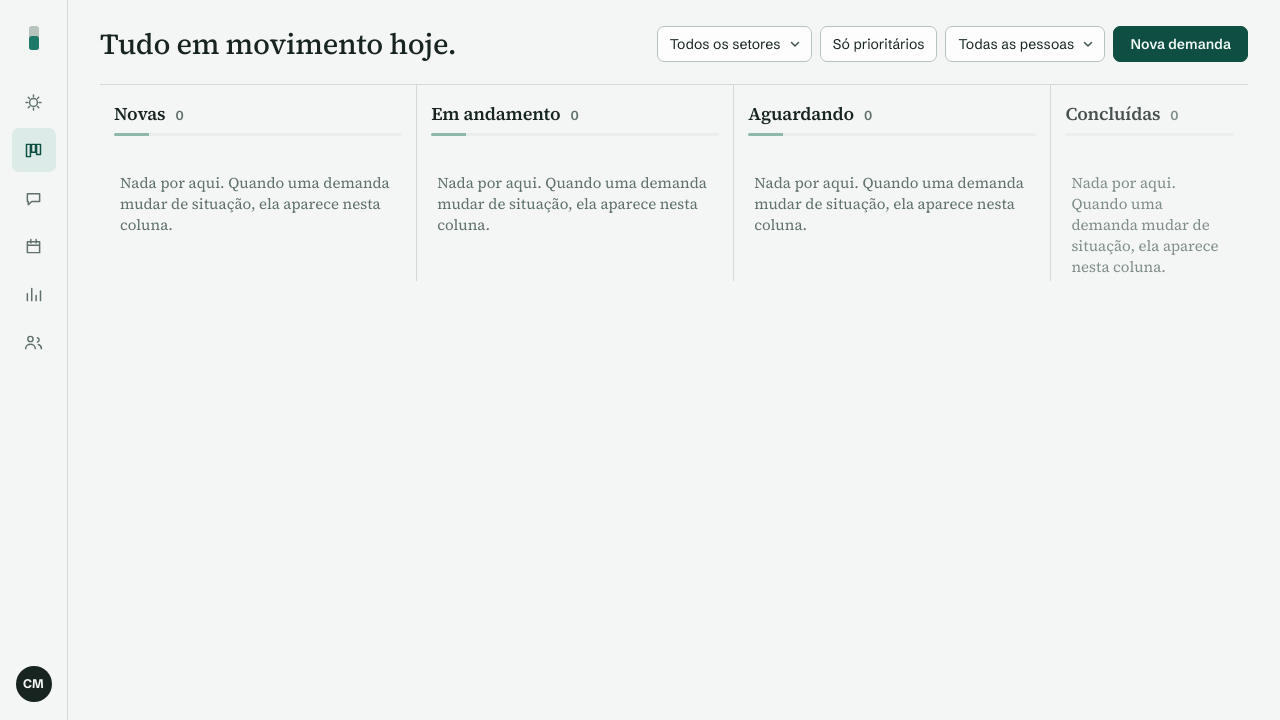
Scenario: new demand dialog › explains a refusal and keeps what was typed
Click the button "Nova demanda": click(1181, 44) [1114,26,1248,62]
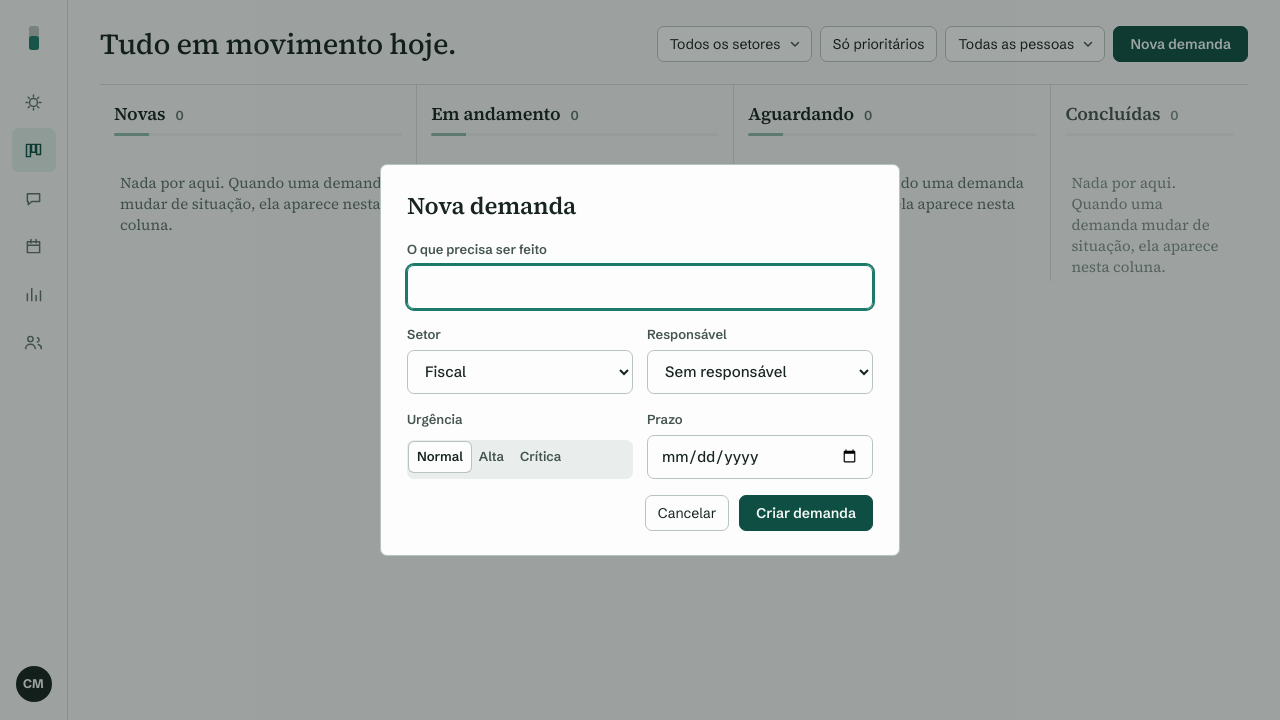
In the field labelled "O que precisa ser feito": (640, 287) [407,265,873,309], type "Algo"
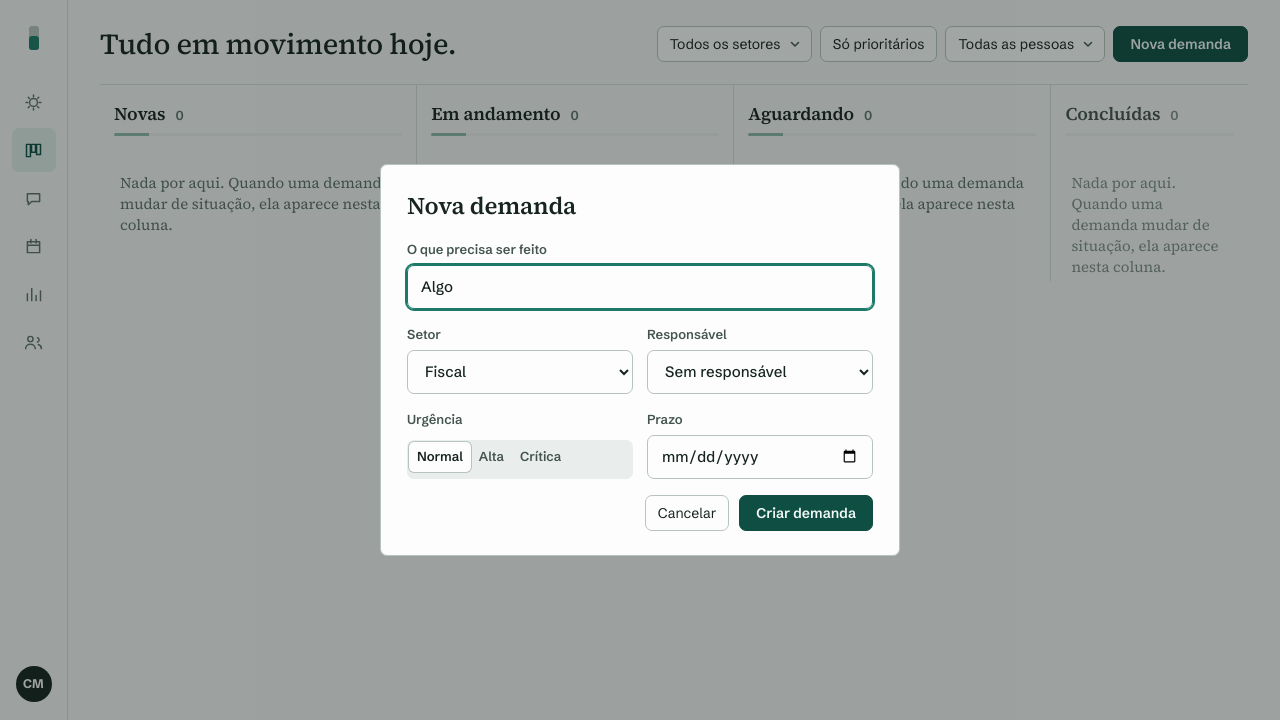
Click the button "Criar demanda": click(806, 513) [739,495,873,531]
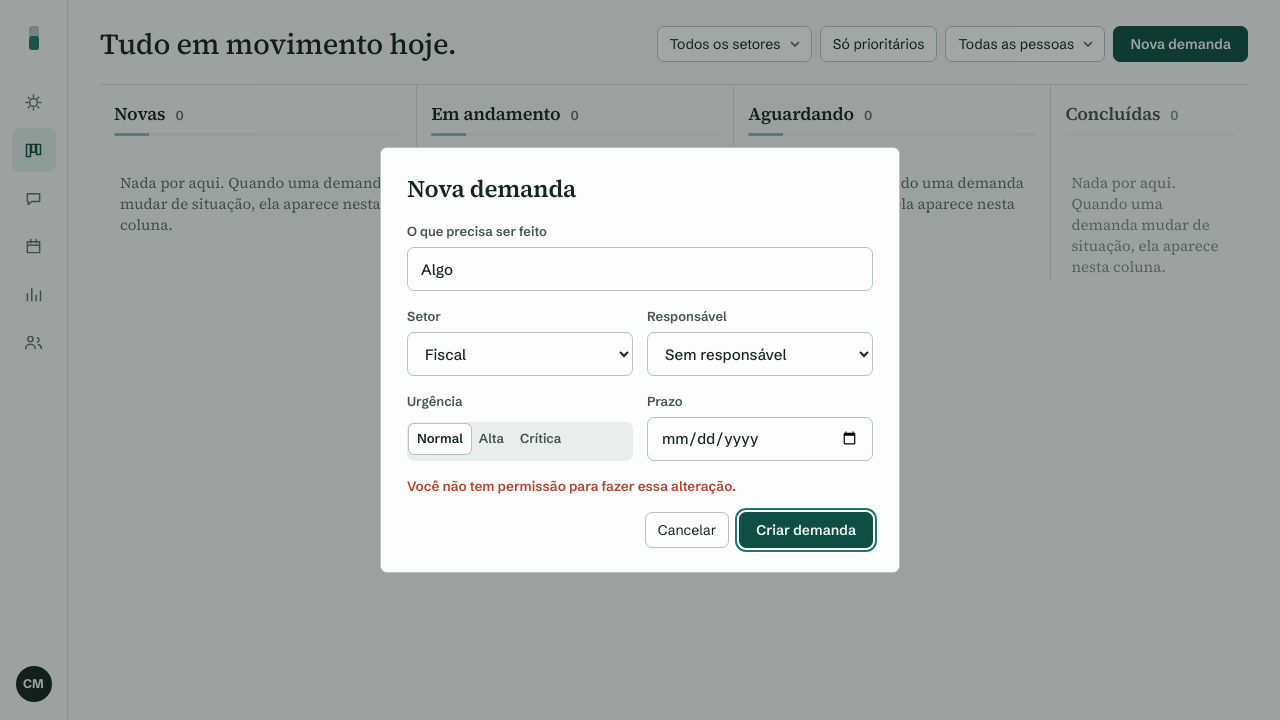
Now the message shows "Você não tem permissão", box [407,478,736,494]
